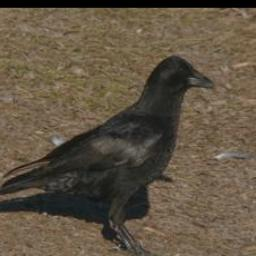Crow: (0, 52, 210, 256)
